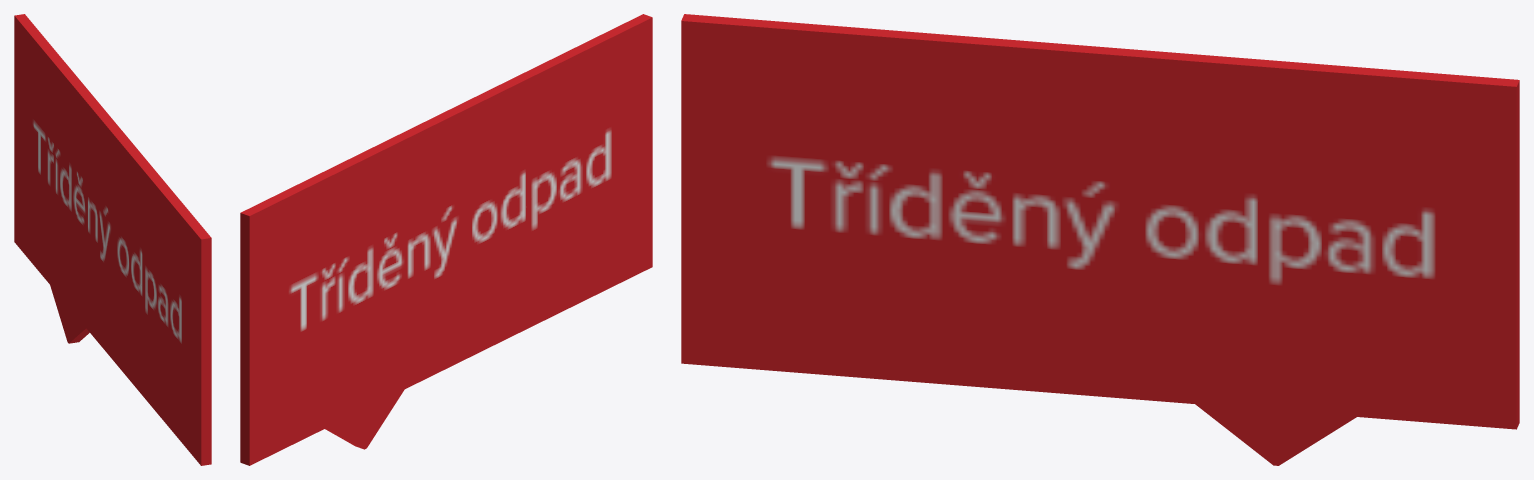
The model's file is sign5.glb.
The picture shows the model from 3 angles, left to right: view 1: azimuth 30°, elevation 25°; view 2: azimuth 150°, elevation 25°; view 3: azimuth 270°, elevation 25°; orthographic projection. The views are drawn at different scales.
Visible parts, largest first — view 1: sign_5_tridenyodpad; view 2: sign_5_tridenyodpad; view 3: sign_5_tridenyodpad.
Part boxes in pixels (x1,y1,x2,y2): sign_5_tridenyodpad: (14, 14, 211, 465); sign_5_tridenyodpad: (240, 14, 652, 465); sign_5_tridenyodpad: (681, 14, 1519, 465).
Bounding box in the file's own units: 0.3218 × 0.8188 × 1.56.
1 material, 1 textured.
